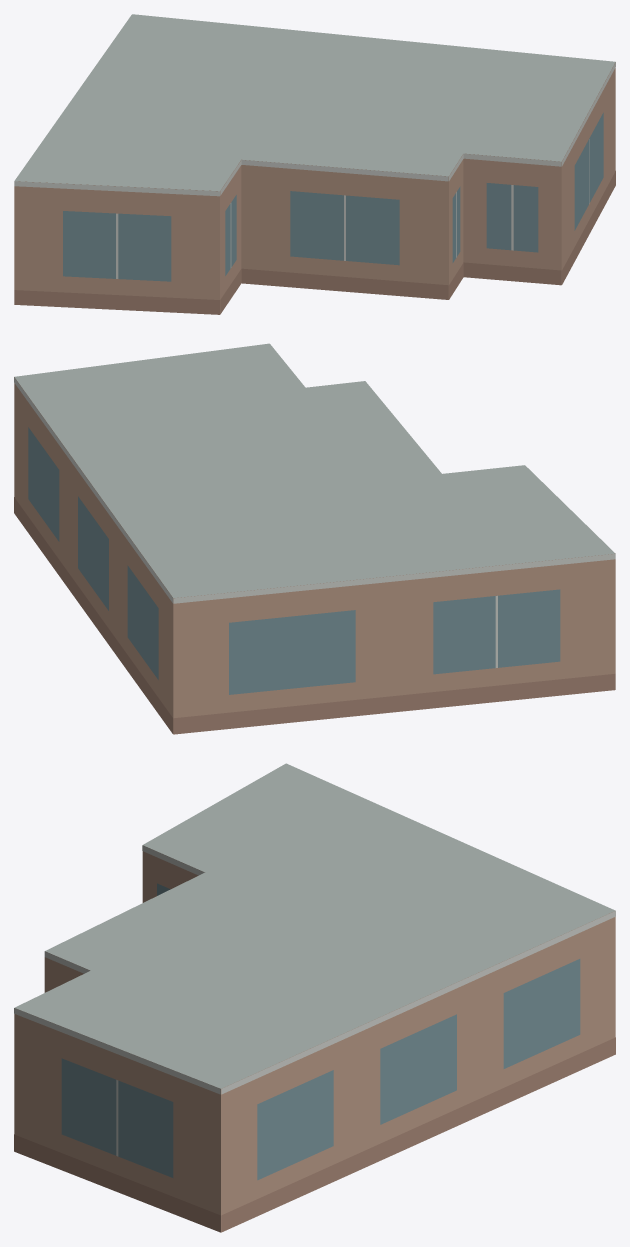
Rendered from survey-upis-32752108.glb.
3 views of the same model, one above another, from view 1: azimuth 30°, elevation 25°; view 2: azimuth 150°, elevation 25°; view 3: azimuth 270°, elevation 25° (orthographic). The views are drawn at different scales.
Parts seen in each view (by area): view 1: survey-upis-32752108.tmp; view 2: survey-upis-32752108.tmp; view 3: survey-upis-32752108.tmp.
Boxes of the visible parts, bbox=[...] form: survey-upis-32752108.tmp: bbox=[14, 14, 615, 314]; survey-upis-32752108.tmp: bbox=[14, 343, 615, 734]; survey-upis-32752108.tmp: bbox=[14, 763, 615, 1232].
Size of the model in its own units: 14.82 by 3.05 by 11.58.
